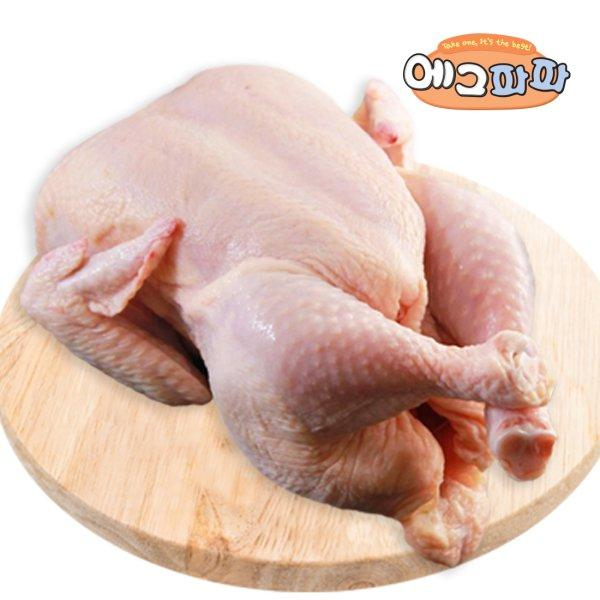chicken: (22, 57, 519, 533)
